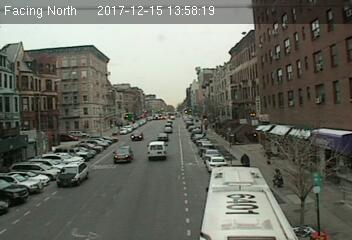bus: (199, 164, 302, 240)
car: (56, 162, 88, 187), (111, 146, 134, 162), (204, 155, 227, 171), (130, 131, 144, 140), (156, 133, 168, 141)
truck: (146, 142, 168, 158)
